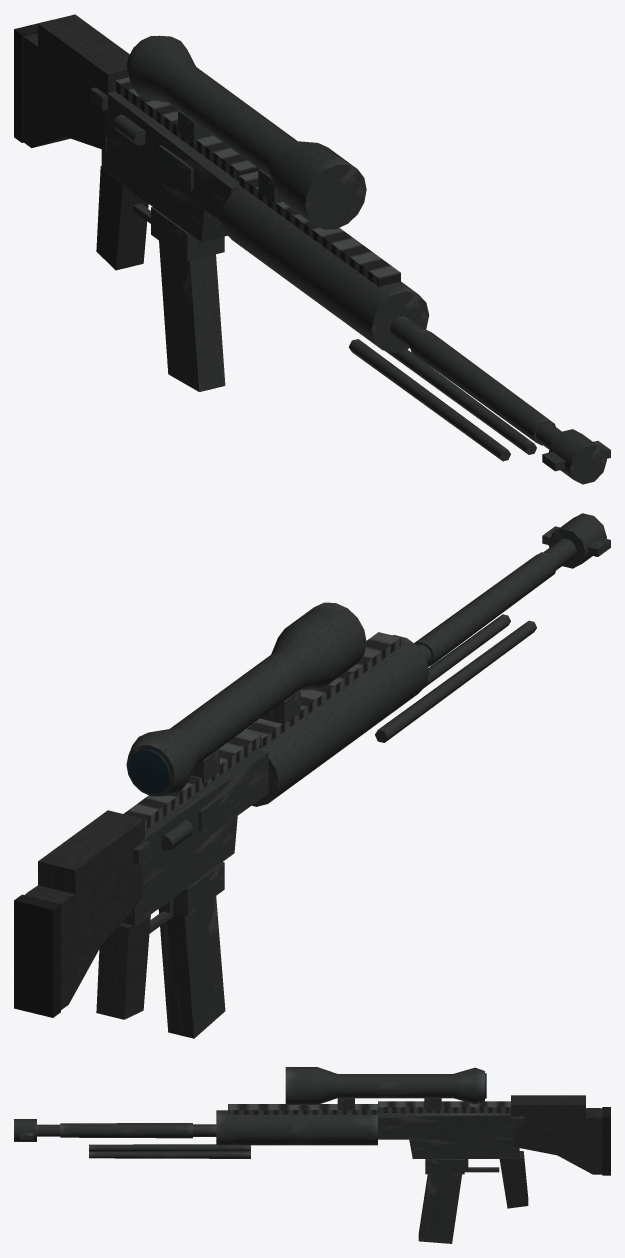
File: weapon-sniper.glb
The picture shows the model from 3 angles, top to bottom: view 1: azimuth 30°, elevation 25°; view 2: azimuth 150°, elevation 25°; view 3: azimuth 270°, elevation 25°; orthographic projection. The views are drawn at different scales.
Visible parts, largest first — view 1: weapon-sniper, magazine; view 2: weapon-sniper, magazine; view 3: weapon-sniper, magazine.
Boxes of the visible parts, x1,y1,x2,y2 form: weapon-sniper: (14, 14, 610, 484); magazine: (159, 241, 225, 391); weapon-sniper: (14, 513, 610, 1019); magazine: (158, 896, 225, 1038); weapon-sniper: (14, 1067, 610, 1208); magazine: (418, 1174, 462, 1243).
Size of the model in its own units: 0.066 by 0.328 by 1.03.
Materials: 1 (1 with a texture image).
